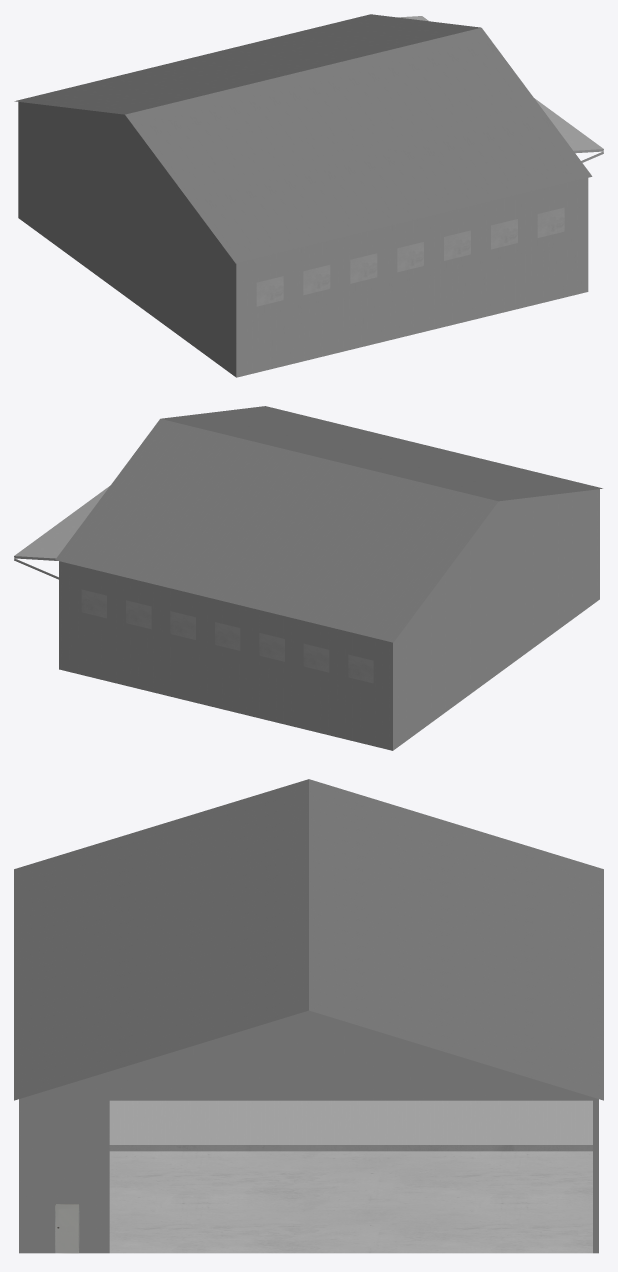
File: gen_open_hangar05-24x22x7-cbj_LOD05.gltf
3 views of the same model, one above another, from view 1: azimuth 30°, elevation 25°; view 2: azimuth 150°, elevation 25°; view 3: azimuth 270°, elevation 25° (orthographic). The views are drawn at different scales.
Visible parts, largest first — view 1: Cylinder.002; view 2: Cylinder.002; view 3: Cylinder.002.
Boxes of the visible parts, x1,y1,x2,y2 form: Cylinder.002: [14, 14, 603, 377]; Cylinder.002: [14, 406, 602, 750]; Cylinder.002: [14, 779, 603, 1253].
Size of the model in its own units: 25.65 by 11.36 by 24.4.
